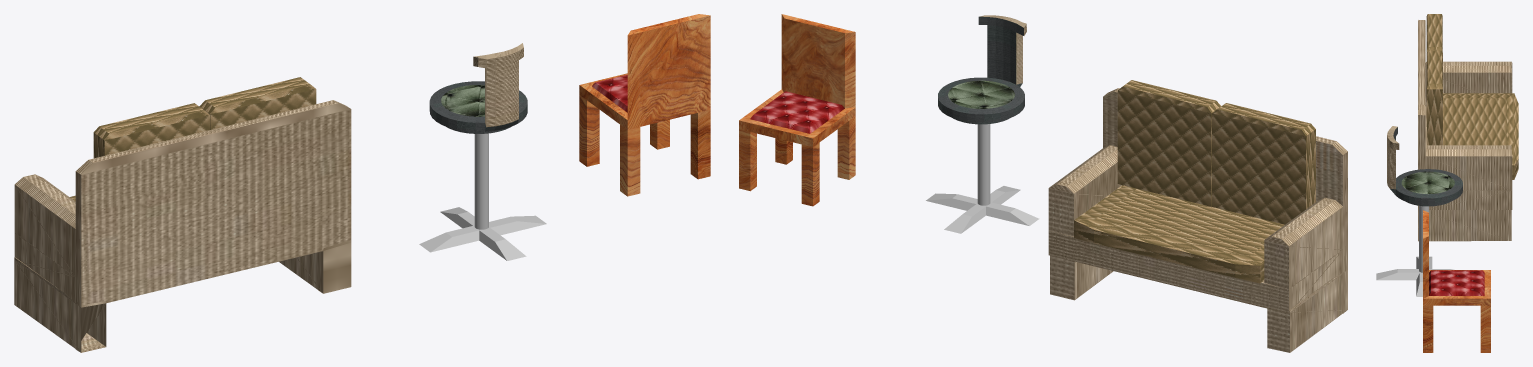
The model's file is blender funiture2.fbx.
The picture shows the model from 3 angles, left to right: view 1: azimuth 30°, elevation 25°; view 2: azimuth 150°, elevation 25°; view 3: azimuth 270°, elevation 25°; orthographic projection. The views are drawn at different scales.
Visible parts, largest first — view 1: Cube, Cube.004, Cylinder, Cube.002, Cube.001, Cube.005, Cylinder.001; view 2: Cube, Cube.004, Cube.003, Cube.002, Cube.001, Cylinder, Cube.005, Cylinder.001; view 3: Cube, Cube.003, Cube.004, Cylinder, Cube.001, Cube.005, Cube.002, Cylinder.001.
Boxes of the visible parts, <box> form: Cube: <box>14,100,351,352</box>; Cube.004: <box>579,14,710,196</box>; Cylinder: <box>429,43,527,133</box>; Cube.002: <box>93,103,210,158</box>; Cube.001: <box>199,77,316,129</box>; Cube.005: <box>419,207,546,260</box>; Cylinder.001: <box>474,133,488,229</box>; Cube: <box>1048,88,1347,352</box>; Cube.004: <box>739,14,855,206</box>; Cube.003: <box>1074,185,1284,283</box>; Cube.002: <box>1212,103,1315,224</box>; Cube.001: <box>1117,80,1220,206</box>; Cylinder: <box>938,15,1026,124</box>; Cube.005: <box>926,186,1039,233</box>; Cylinder.001: <box>977,124,990,205</box>; Cube: <box>1418,20,1512,241</box>; Cube.003: <box>1443,93,1518,179</box>; Cube.004: <box>1423,210,1490,352</box>; Cylinder: <box>1387,126,1462,206</box>; Cube.001: <box>1427,50,1442,145</box>; Cube.005: <box>1376,256,1454,296</box>; Cube.002: <box>1426,14,1442,126</box>; Cylinder.001: <box>1419,206,1428,272</box>.
Size of the model in its own units: 59814 by 19535 by 16394.
